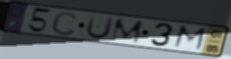3: (149, 22, 176, 48)
5: (27, 6, 53, 34)
C: (50, 10, 80, 37)
M: (171, 24, 210, 53), (109, 18, 146, 45)
U: (84, 13, 116, 41)
